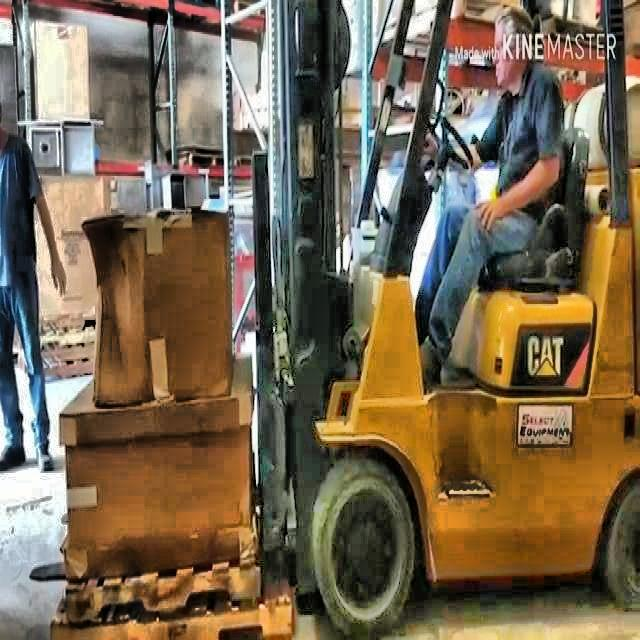bull_dozer/loader/grader: (247, 0, 639, 631)
person: (0, 106, 67, 478)
